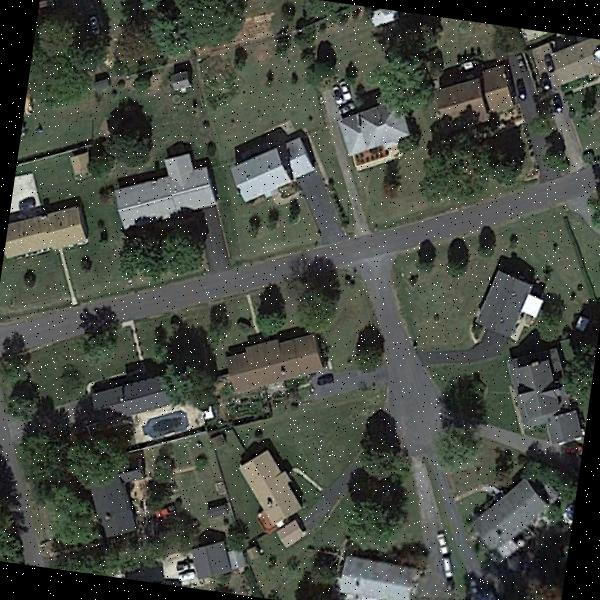Buildings: (225, 320, 325, 397), (3, 186, 92, 270), (124, 144, 204, 234), (516, 28, 600, 104), (242, 450, 312, 536), (473, 481, 544, 553), (438, 57, 518, 120), (478, 267, 546, 340), (336, 98, 404, 160), (236, 128, 298, 196), (98, 363, 164, 418), (512, 361, 560, 426), (341, 563, 412, 600), (194, 540, 232, 582)
